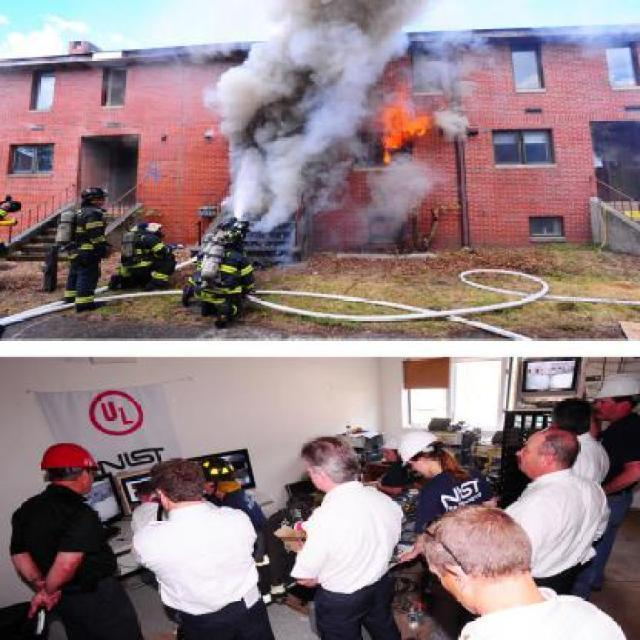Fire: (350, 55, 438, 170)
Smoke: (76, 0, 626, 290)
